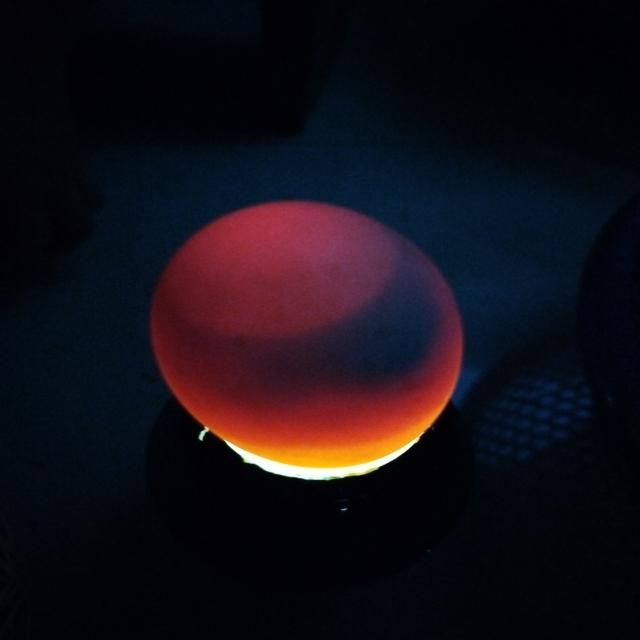Area Infectada: (154, 225, 454, 408)
